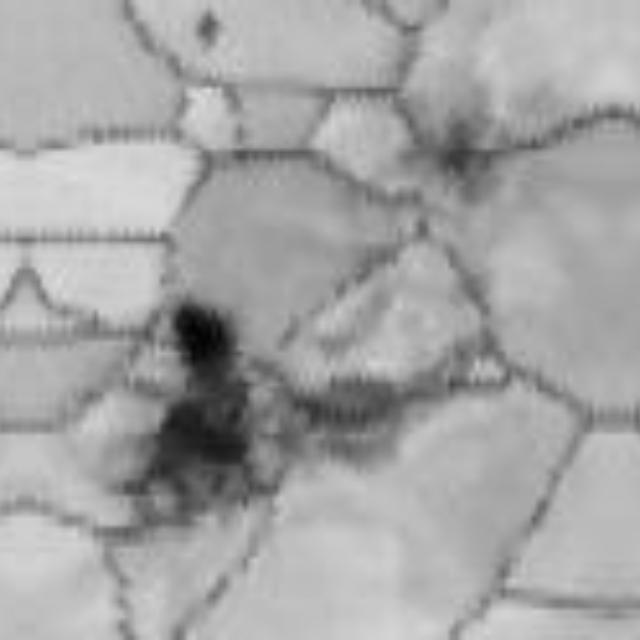good_void: (161, 310, 249, 501), (440, 124, 491, 201), (202, 10, 223, 52)
